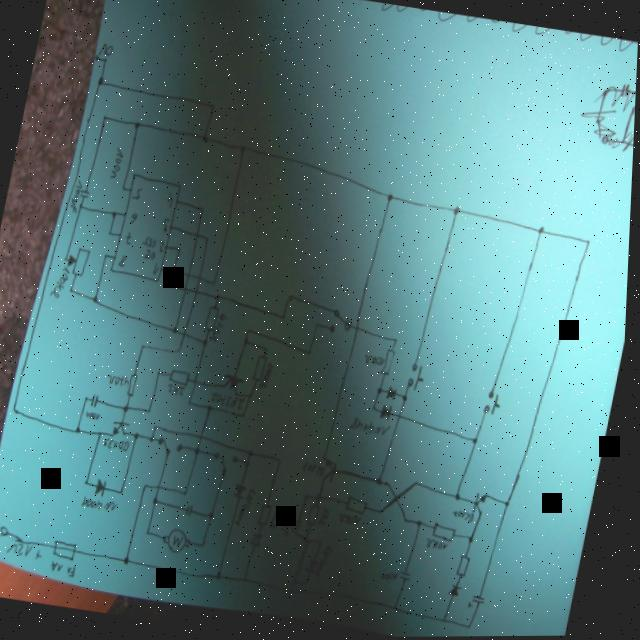capacitor: (472, 595, 492, 613), (404, 570, 418, 585), (295, 520, 309, 534), (94, 394, 104, 410), (81, 188, 93, 200), (190, 504, 199, 519)
crossover: (395, 494, 406, 506), (188, 273, 197, 281), (184, 331, 191, 340), (160, 484, 167, 492), (195, 379, 202, 387), (202, 435, 209, 442), (357, 326, 364, 333), (197, 232, 203, 240), (197, 290, 203, 297), (185, 287, 191, 294), (174, 269, 180, 276), (401, 414, 406, 421), (200, 276, 205, 283)
diode: (236, 483, 252, 502), (98, 478, 113, 498), (383, 404, 397, 423), (452, 584, 469, 599), (254, 532, 269, 549), (310, 559, 324, 577), (389, 387, 402, 403)
inductor: (299, 544, 316, 581)
junction: (239, 144, 249, 157), (379, 477, 389, 488), (201, 134, 211, 145), (387, 194, 397, 204), (197, 447, 206, 458), (307, 536, 317, 545), (174, 327, 183, 337), (98, 77, 106, 88), (126, 405, 134, 416), (246, 338, 254, 349), (128, 556, 136, 566), (205, 339, 213, 349), (157, 496, 164, 507), (15, 406, 23, 415), (95, 296, 103, 305), (320, 494, 328, 503), (152, 436, 160, 445), (405, 395, 413, 404), (458, 494, 466, 503), (209, 104, 217, 113), (178, 348, 186, 357), (200, 206, 208, 215), (135, 122, 143, 131), (540, 227, 547, 237), (455, 207, 462, 217), (87, 479, 95, 487), (297, 579, 304, 588), (251, 450, 258, 459), (213, 512, 220, 521), (221, 574, 228, 583), (138, 433, 145, 442), (210, 405, 217, 414), (380, 388, 387, 397), (476, 438, 483, 447), (421, 520, 428, 529), (389, 481, 396, 490), (218, 294, 225, 303), (206, 235, 213, 244), (473, 537, 479, 547), (114, 211, 120, 221), (79, 427, 86, 435), (249, 460, 256, 468), (280, 458, 287, 466), (147, 484, 155, 491), (250, 394, 258, 401), (509, 501, 516, 509), (248, 577, 255, 585), (417, 481, 425, 488), (407, 517, 414, 525), (382, 510, 390, 517), (213, 281, 220, 289), (293, 589, 300, 596), (308, 495, 315, 502), (186, 491, 193, 498), (205, 543, 212, 550), (397, 606, 404, 613), (122, 490, 129, 497), (170, 283, 177, 290), (178, 247, 185, 254), (323, 540, 329, 548), (310, 350, 316, 358), (101, 431, 107, 438), (160, 370, 166, 377), (150, 409, 156, 416), (106, 253, 112, 260), (309, 581, 315, 588), (318, 323, 324, 330), (283, 316, 289, 323), (291, 295, 297, 302), (588, 240, 594, 247), (447, 618, 453, 625), (472, 625, 478, 632), (72, 288, 77, 296), (150, 530, 155, 538), (104, 58, 109, 65), (88, 397, 93, 404), (144, 345, 149, 352), (298, 532, 303, 539), (157, 425, 162, 432), (191, 401, 196, 408), (245, 413, 250, 420), (267, 348, 272, 355), (249, 329, 254, 336), (397, 339, 402, 346), (375, 406, 380, 413), (81, 204, 86, 211), (110, 232, 115, 239), (123, 187, 128, 194), (104, 116, 109, 123)
resistor: (63, 245, 94, 280), (435, 522, 463, 544), (349, 495, 375, 517), (383, 349, 400, 379), (206, 305, 223, 335), (256, 356, 272, 384), (310, 503, 327, 529), (261, 504, 278, 530), (172, 369, 195, 388), (461, 555, 477, 580), (130, 373, 143, 399)
switch: (214, 452, 244, 480), (331, 309, 358, 338), (159, 437, 190, 459), (410, 363, 431, 394), (486, 392, 507, 418)
terminal: (3, 526, 16, 539), (95, 54, 101, 63)
text: (352, 416, 397, 440), (239, 486, 262, 529), (52, 265, 75, 302), (84, 495, 125, 515), (10, 542, 50, 562), (213, 392, 250, 412), (321, 544, 339, 579), (213, 313, 232, 345), (285, 508, 303, 540), (141, 236, 162, 262), (112, 147, 128, 180), (71, 180, 85, 215), (305, 461, 332, 479), (263, 361, 279, 391), (107, 438, 136, 454), (342, 513, 369, 529), (108, 373, 134, 389), (273, 507, 289, 532), (366, 354, 390, 369), (456, 511, 480, 526), (169, 383, 191, 398), (386, 570, 406, 585), (431, 540, 454, 553), (322, 510, 337, 529), (99, 43, 115, 58), (54, 560, 70, 575), (88, 410, 105, 422), (133, 188, 146, 202), (167, 193, 177, 210), (71, 565, 82, 579), (164, 218, 173, 235), (127, 231, 136, 247), (131, 213, 142, 226), (121, 255, 131, 269), (160, 240, 169, 255), (155, 262, 163, 277)
transistor: (320, 456, 343, 486), (224, 373, 249, 399), (114, 421, 135, 441), (477, 493, 493, 517)
